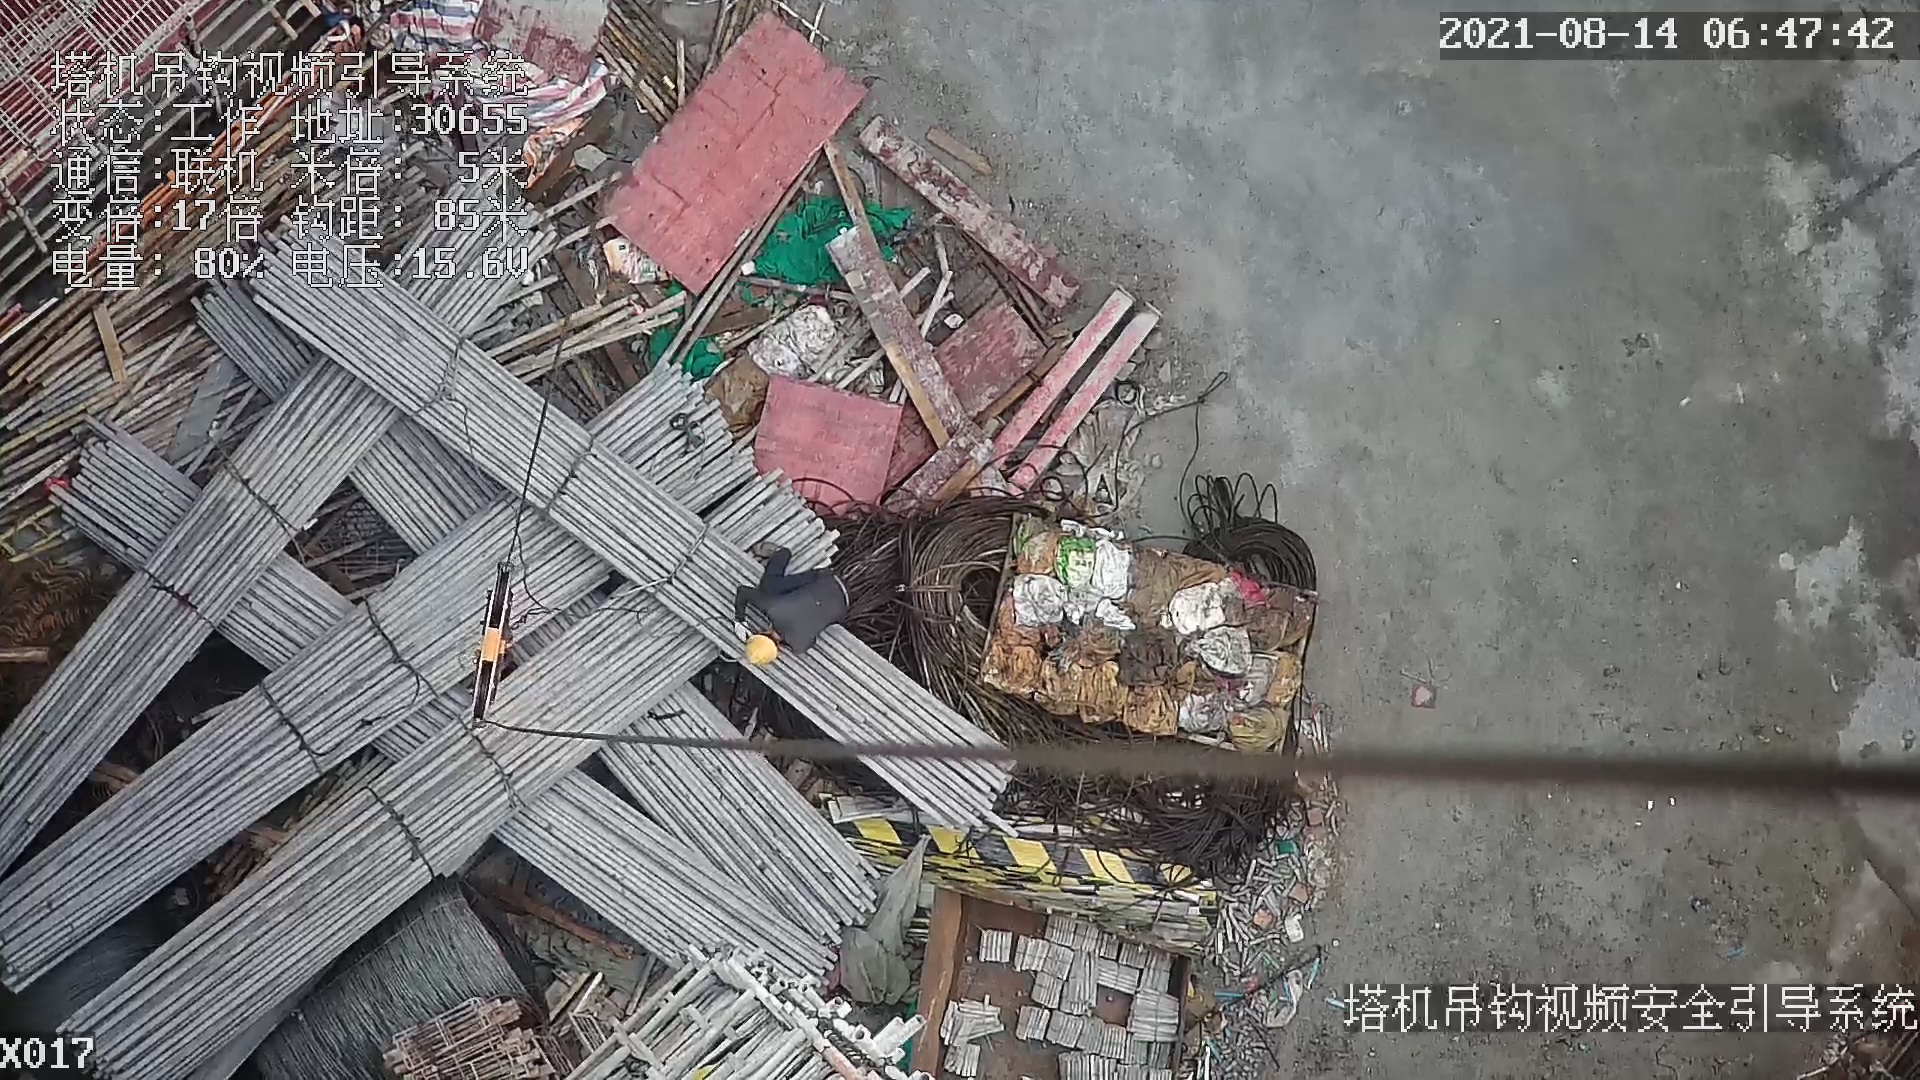board: (581, 4, 874, 298)
helmet: (740, 634, 780, 672)
hook: (459, 553, 518, 737)
person: (723, 537, 850, 668)
